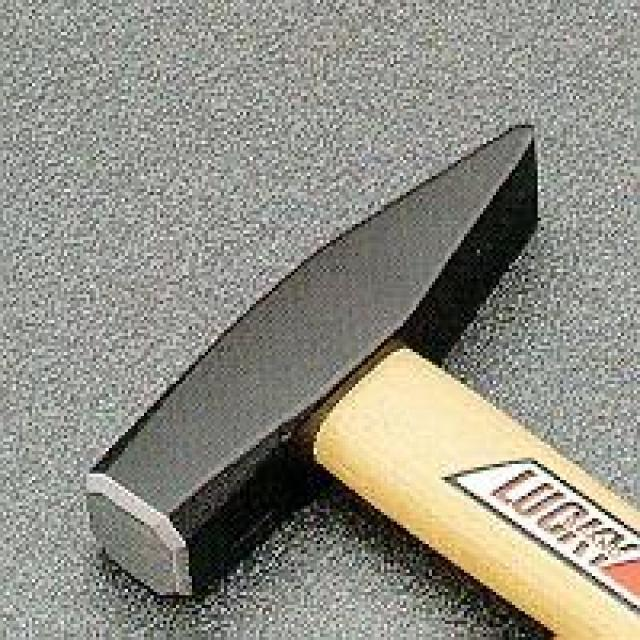hammer: (75, 114, 640, 640)
